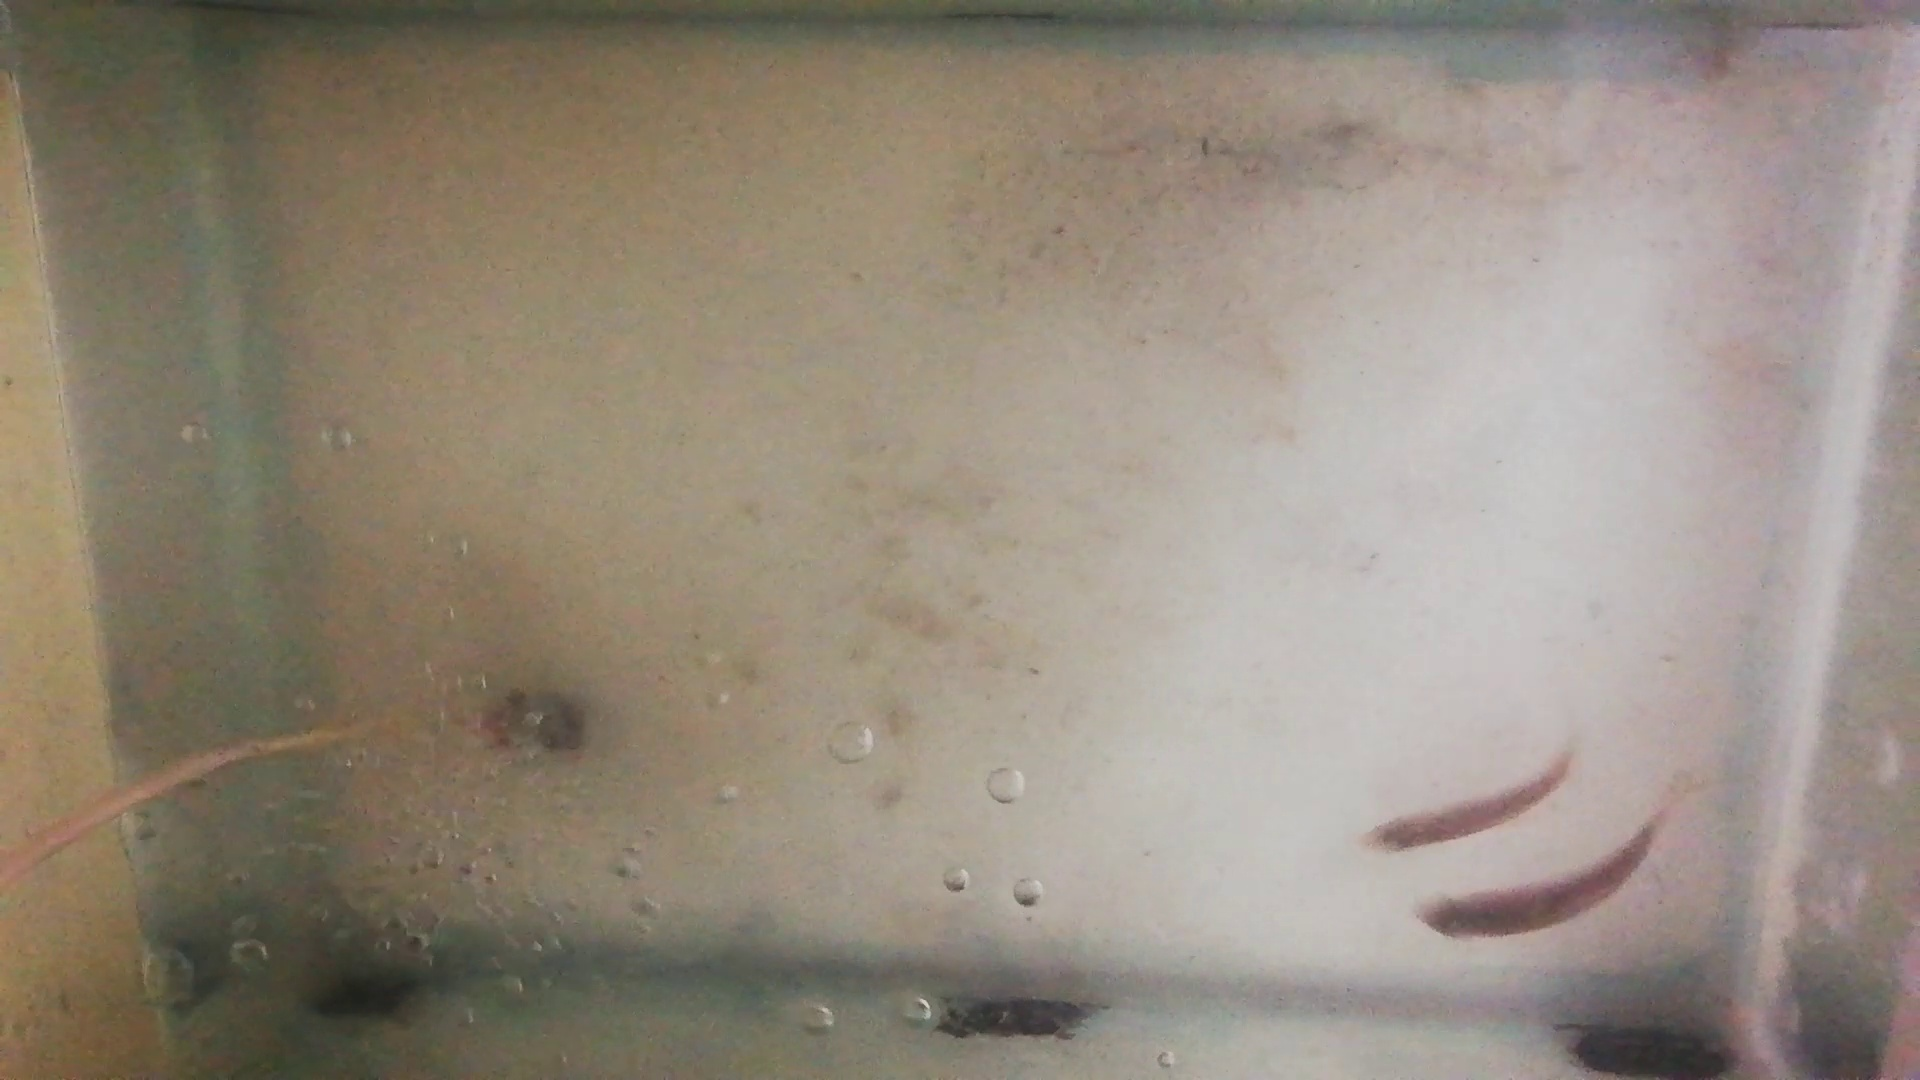fish: (1418, 824, 1662, 942), (1364, 764, 1572, 856)
